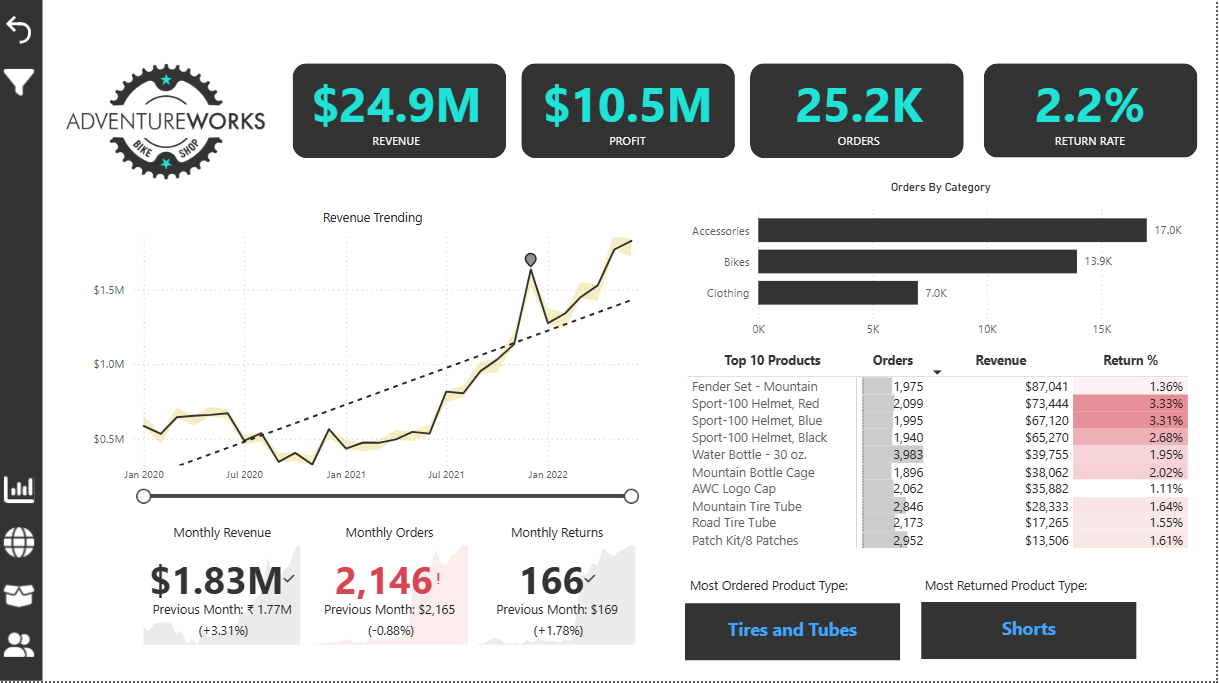

The dashboard page shown, as its layout file describes it:
{"tool":"powerbi","page":{"name":"Exec Dashboard","canvas":[1280,720],"ordinal":0},"visuals":[{"type":"image","title":"AW Logo","box":[42.3,0,266.2,261.2],"z":0},{"type":"card","fields":{"Values":["Measure Table.Total Revenue"]},"box":[286.1,14.9,263.7,207.7],"z":0,"group":"g2"},{"type":"group","id":"g1","title":"KPI background","box":[308.5,69.6,952.9,100],"z":0,"group":"g3"},{"type":"shape","box":[308.5,69.6,225,100],"z":0,"group":"g1"},{"type":"actionButton","box":[0,498.8,45,40],"z":0,"group":"g4"},{"type":"shape","title":"Left Nav bar","box":[0,0,44.7,719.7],"z":1000},{"type":"group","id":"g2","title":"KPI Values","box":[286.1,14.9,993.9,207.7],"z":1000,"group":"g3"},{"type":"card","fields":{"Values":["Measure Table.Total Profit"]},"box":[529.5,14.9,263.7,207.7],"z":1000,"group":"g2"},{"type":"shape","box":[549.3,69.6,225.2,100],"z":1000,"group":"g1"},{"type":"actionButton","box":[0,553.8,45,40],"z":1000,"group":"g4"},{"type":"group","id":"g3","title":"KPIs","box":[286.1,14.9,993.9,207.7],"z":2000},{"type":"card","fields":{"Values":["Measure Table.Total Orders"]},"box":[772.9,14.9,263.7,207.7],"z":2000,"group":"g2"},{"type":"shape","box":[790.3,69.6,225.2,100],"z":2000,"group":"g1"},{"type":"actionButton","box":[0,610,45,40],"z":2000,"group":"g4"},{"type":"card","fields":{"Values":["Measure Table.Return Rate"]},"box":[1016.3,14.9,263.7,207.7],"z":3000,"group":"g2"},{"type":"shape","box":[1036.2,69.6,225.2,99.5],"z":3000,"group":"g1"},{"type":"lineChart","title":"Revenue Trending","fields":{"Y":["Measure Table.Total Revenue"],"Category":["Calendar Lookup.Start of Month"]},"box":[93.7,222.8,597.5,313.9],"z":3000},{"type":"actionButton","box":[0,662.6,45,40],"z":3000,"group":"g4"},{"type":"kpi","title":"Monthly Revenue","fields":{"Indicator":["Measure Table.Total Revenue"],"TrendLine":["Calendar Lookup.Start of Month"],"Goal":["Measure Table.Previous Month Revenue"]},"box":[145.5,553.6,175.4,133],"z":4000},{"type":"kpi","title":"Monthly Orders","fields":{"TrendLine":["Calendar Lookup.Start of Month"],"Indicator":["Measure Table.Total Orders"],"Goal":["Measure Table.Previous Month Orders"]},"box":[322.2,553.6,175.4,133.1],"z":5000},{"type":"kpi","title":"Monthly Returns","fields":{"TrendLine":["Calendar Lookup.Start of Month"],"Indicator":["Measure Table.Total Returns"],"Goal":["Measure Table.Previous Month Returns"]},"box":[498.8,553.6,175.4,133],"z":6000},{"type":"clusteredBarChart","title":"Orders By Category","fields":{"Category":["Product Categories Lookup.CategoryName"],"Y":["Measure Table.Total Orders"]},"box":[717.8,194.1,543.6,174.2],"z":7000},{"type":"pivotTable","fields":{"Rows":["Product Lookup.ProductName"],"Values":["Measure Table.Total Orders","Measure Table.Total Revenue","Measure Table.Return Rate"]},"box":[717.8,368.2,543.6,220.2],"z":8000},{"type":"card","fields":{"Values":["Min(Product Subcategories Lookup.SubcategoryName)"]},"box":[721.5,638.2,226.4,59.7],"z":9000},{"type":"textbox","box":[721.5,605.8,226.4,39.8],"z":10000},{"type":"card","fields":{"Values":["Min(Product Subcategories Lookup.SubcategoryName)"]},"box":[969.3,637.2,226.4,59.7],"z":11000},{"type":"textbox","box":[969,605.8,226.4,32.3],"z":12000},{"type":"actionButton","box":[0,14.5,42.1,39.5],"z":13000},{"type":"group","id":"g4","title":"Navigation Buttons","box":[0,498.8,45,203.8],"z":14000},{"type":"actionButton","box":[0,70,45,40],"z":15000}]}

Visuals, with their boxes on the page's 1280x720 design canvas (x1, y1, x2, y2). These are canvas units, not pixel positions in the 1219x683 screenshot, which may show the page scaled, cropped or inside an application window:
"AW Logo" image: locate(42, 0, 308, 261)
card - Measure Table.Total Revenue: locate(286, 15, 550, 223)
"KPI background" group: locate(308, 70, 1261, 170)
shape: locate(308, 70, 534, 170)
actionButton: locate(0, 499, 45, 539)
"Left Nav bar" shape: locate(0, 0, 45, 720)
"KPI Values" group: locate(286, 15, 1280, 223)
card - Measure Table.Total Profit: locate(530, 15, 793, 223)
shape: locate(549, 70, 774, 170)
actionButton: locate(0, 554, 45, 594)
"KPIs" group: locate(286, 15, 1280, 223)
card - Measure Table.Total Orders: locate(773, 15, 1037, 223)
shape: locate(790, 70, 1016, 170)
actionButton: locate(0, 610, 45, 650)
card - Measure Table.Return Rate: locate(1016, 15, 1280, 223)
shape: locate(1036, 70, 1261, 169)
"Revenue Trending" lineChart: locate(94, 223, 691, 537)
actionButton: locate(0, 663, 45, 703)
"Monthly Revenue" kpi: locate(146, 554, 321, 687)
"Monthly Orders" kpi: locate(322, 554, 498, 687)
"Monthly Returns" kpi: locate(499, 554, 674, 687)
"Orders By Category" clusteredBarChart: locate(718, 194, 1261, 368)
pivotTable - Product Lookup.ProductName x Measure Table.Total Orders: locate(718, 368, 1261, 588)
card - Min(Product Subcategories Lookup.SubcategoryName): locate(722, 638, 948, 698)
textbox: locate(722, 606, 948, 646)
card - Min(Product Subcategories Lookup.SubcategoryName): locate(969, 637, 1196, 697)
textbox: locate(969, 606, 1195, 638)
actionButton: locate(0, 14, 42, 54)
"Navigation Buttons" group: locate(0, 499, 45, 703)
actionButton: locate(0, 70, 45, 110)
